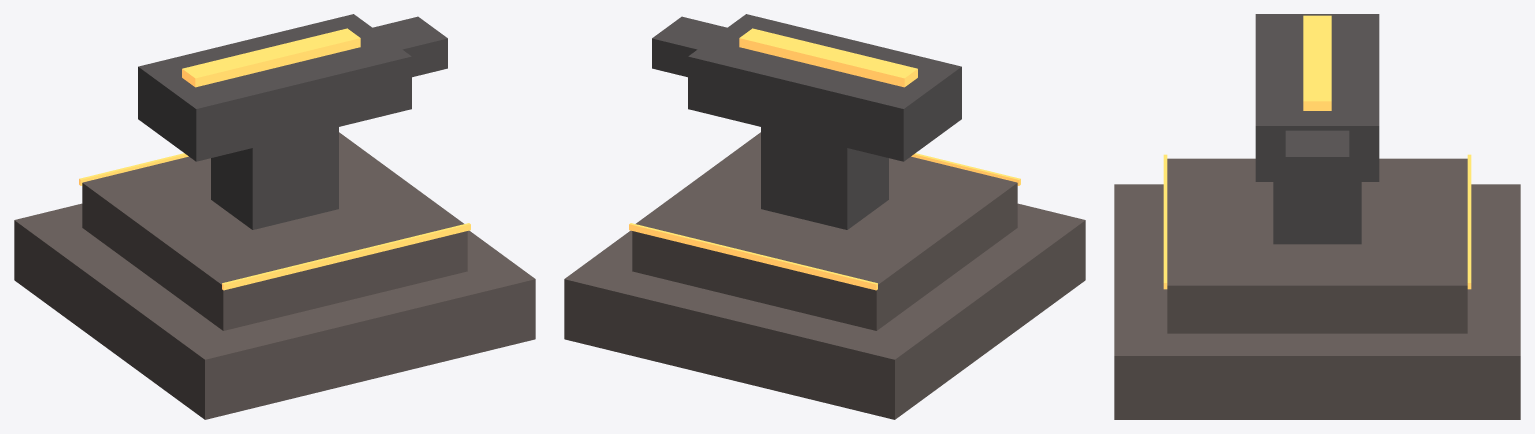
File: forge_anvil_shrine.glb
The picture shows the model from 3 angles, left to right: view 1: azimuth 30°, elevation 25°; view 2: azimuth 150°, elevation 25°; view 3: azimuth 270°, elevation 25°; orthographic projection. The views are drawn at different scales.
Parts seen in each view (by area): view 1: forge_anvil_shrine; view 2: forge_anvil_shrine; view 3: forge_anvil_shrine.
Part boxes in pixels (x1,y1,x2,y2): forge_anvil_shrine: [14, 14, 535, 419]; forge_anvil_shrine: [564, 14, 1085, 419]; forge_anvil_shrine: [1114, 14, 1520, 419].
Bounding box in the file's own units: 2.3 × 1.71 × 2.3.
